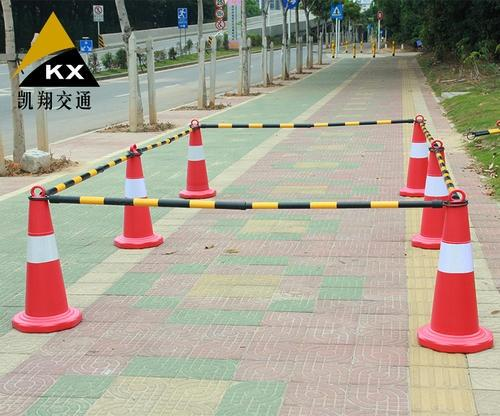cone_barrel: (415, 195, 490, 356), (10, 189, 80, 335), (114, 144, 161, 248), (415, 140, 454, 250), (178, 120, 217, 201), (399, 112, 431, 198)
